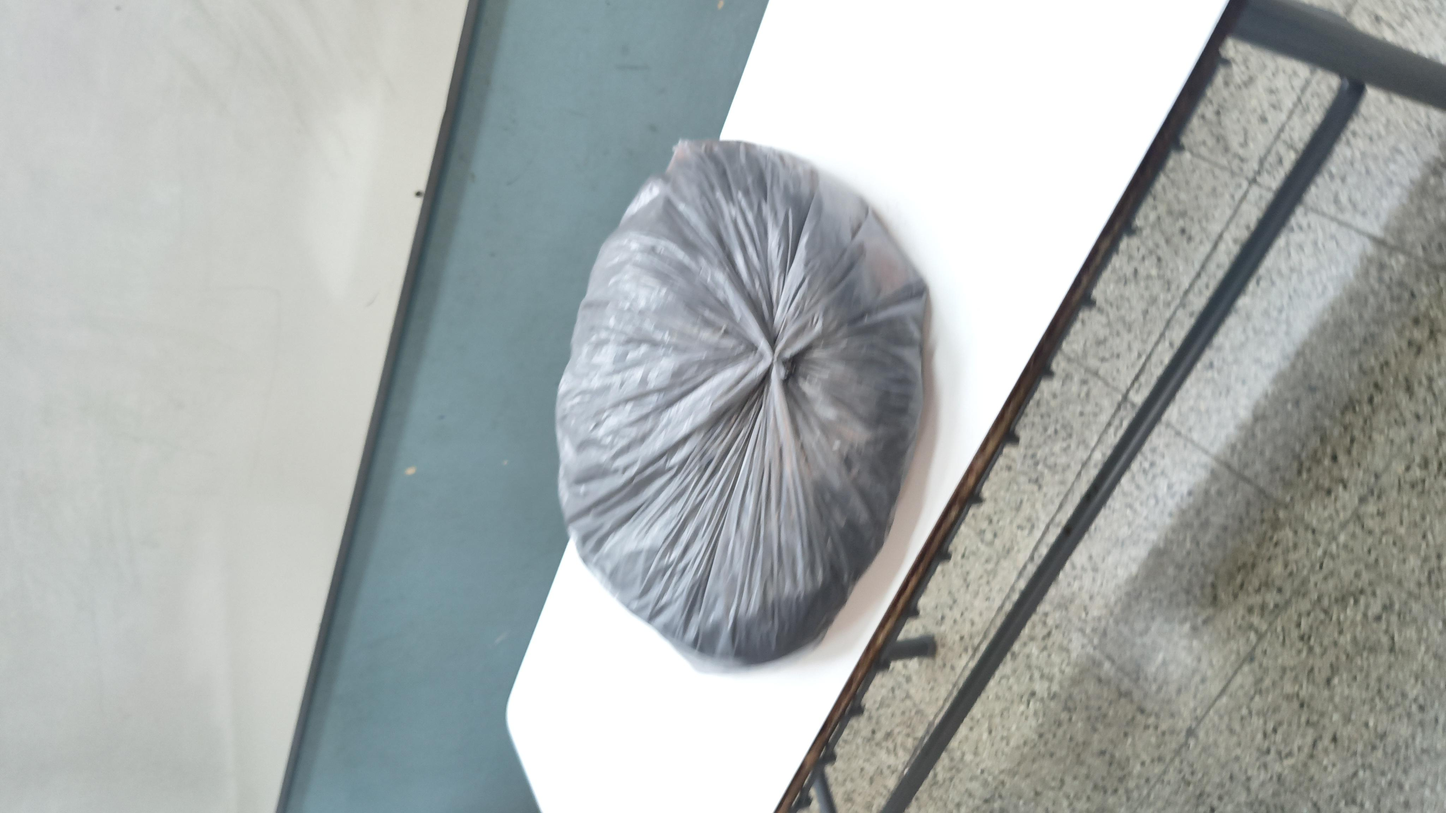Garbage: (207, 280, 1305, 582)
